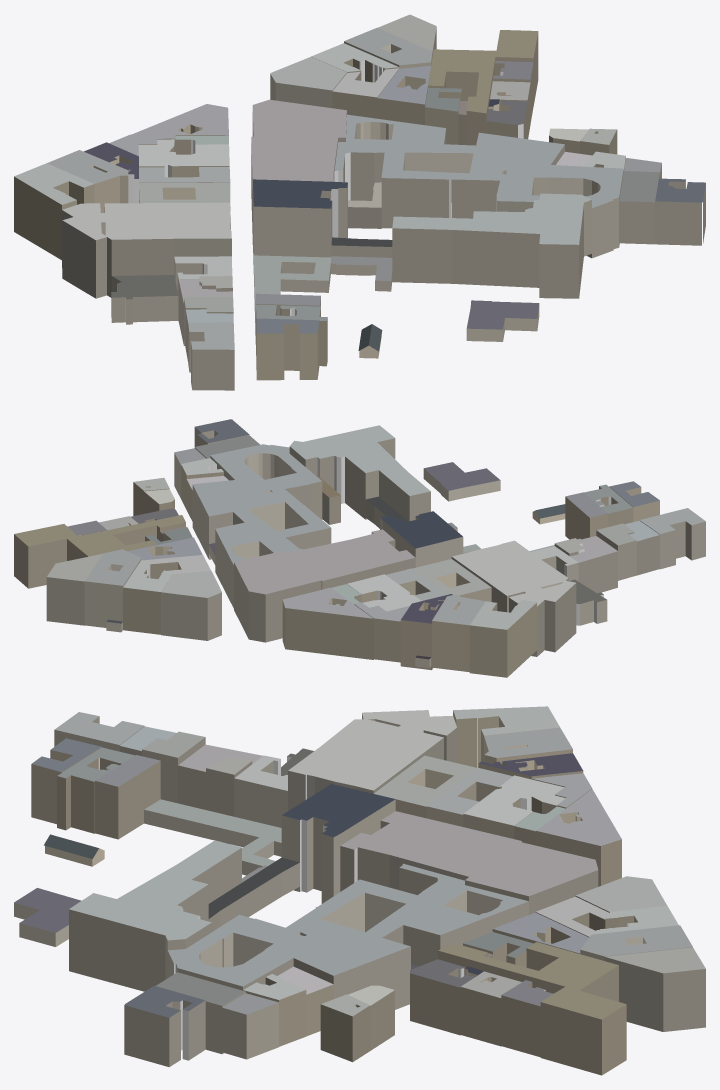
The picture shows the model from 3 angles, top to bottom: view 1: azimuth 30°, elevation 25°; view 2: azimuth 150°, elevation 25°; view 3: azimuth 270°, elevation 25°; orthographic projection. The views are drawn at different scales.
Parts seen in each view (by area): view 1: tuile; view 2: tuile; view 3: tuile.
Boxes of the visible parts, x1,y1,x2,y2 form: tuile: (14,14,705,390); tuile: (14,419,705,677); tuile: (14,706,705,1075).
Bounding box in the file's own units: 288 × 33.35 × 262.
